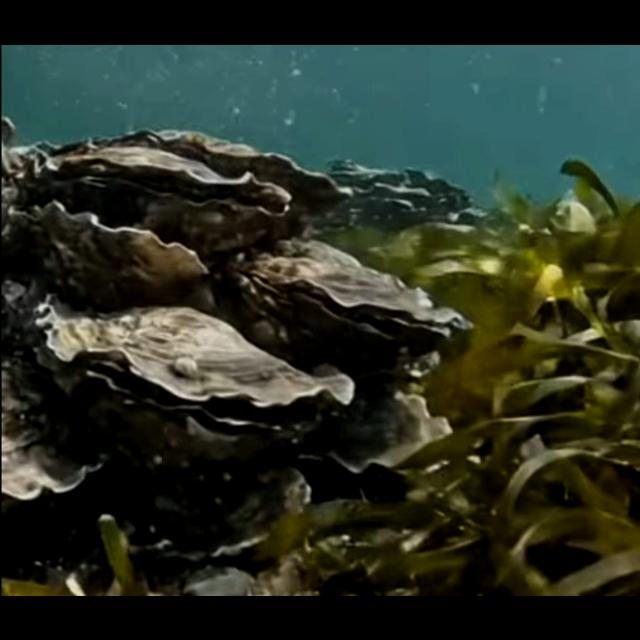Oyster-Closed: (93, 125, 354, 222), (95, 452, 312, 560), (8, 198, 210, 306), (0, 336, 112, 500), (291, 376, 453, 478)
Oyster-Open: (30, 292, 354, 464), (224, 237, 476, 366), (12, 144, 294, 252)
